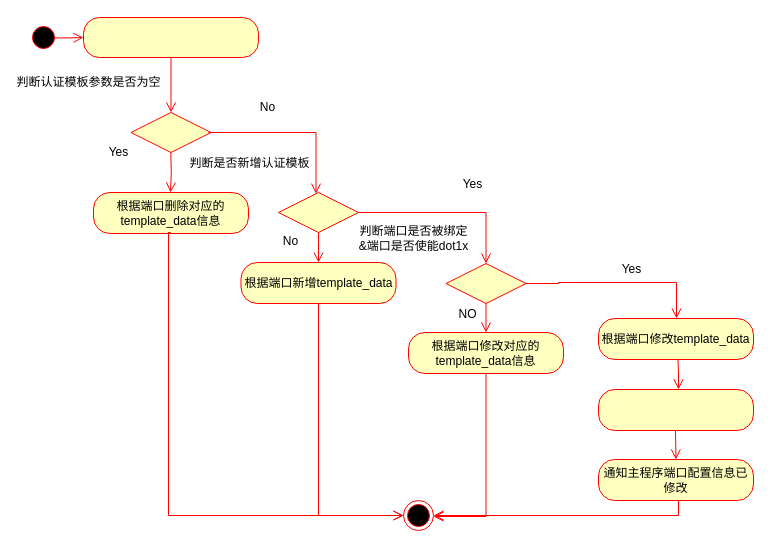
Image size: 772x548. Some labels were removed from this diagram. Here are the shapes that lost their labels. From the top down, the centre of each, then its label:
the point at 170,37: 接收认证模板名、认证模板参数
the point at 676,409: 修改配置文件
